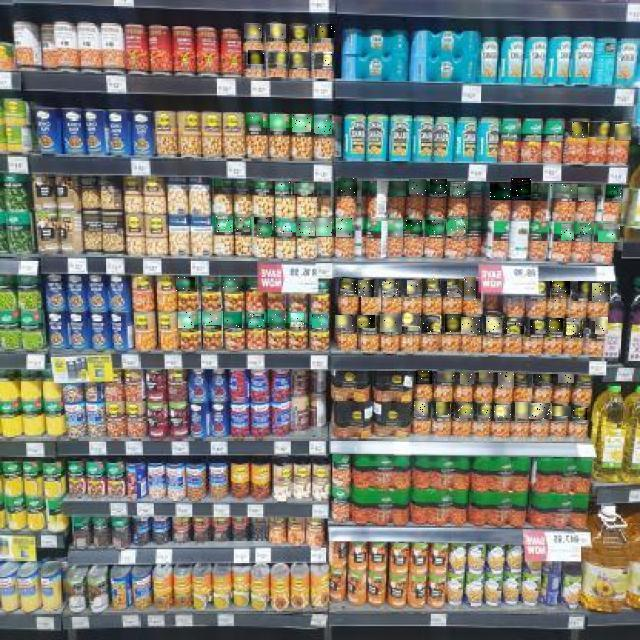Beans: (511, 178, 531, 200), (448, 216, 468, 236), (550, 282, 570, 302), (598, 224, 620, 242), (380, 314, 402, 332), (490, 182, 512, 200), (551, 185, 579, 199), (528, 403, 552, 419), (254, 217, 272, 237), (592, 283, 610, 302), (292, 114, 311, 132), (314, 115, 332, 134), (338, 178, 357, 196), (462, 317, 482, 334), (445, 314, 463, 332), (567, 319, 583, 339), (290, 52, 310, 68), (275, 222, 297, 236), (336, 218, 352, 237), (430, 179, 447, 196), (316, 218, 332, 236), (269, 310, 285, 328), (224, 312, 242, 328), (402, 314, 420, 330), (423, 316, 441, 332), (455, 402, 473, 418), (275, 178, 291, 196), (410, 180, 428, 196), (222, 279, 242, 293), (316, 25, 336, 39), (464, 277, 476, 300), (216, 216, 233, 232), (340, 278, 357, 294), (358, 280, 374, 297), (271, 114, 287, 131), (296, 222, 315, 236), (176, 277, 195, 291), (504, 321, 524, 334), (451, 220, 467, 236), (382, 281, 398, 297), (178, 312, 194, 328), (498, 372, 514, 388), (515, 402, 531, 418), (572, 122, 588, 138), (615, 125, 631, 141), (388, 220, 403, 237), (427, 220, 445, 234), (336, 316, 354, 330), (530, 320, 548, 334), (202, 312, 221, 325), (486, 317, 502, 332), (494, 406, 511, 420), (246, 116, 263, 130), (389, 182, 406, 196), (606, 185, 623, 199), (244, 25, 262, 38), (357, 315, 375, 328), (290, 26, 308, 39), (437, 369, 455, 382), (406, 220, 422, 234), (426, 279, 440, 295), (448, 280, 462, 296), (271, 24, 287, 38), (312, 314, 328, 328), (248, 314, 264, 328), (291, 314, 305, 330), (416, 370, 432, 384), (479, 403, 493, 419), (248, 51, 264, 65), (596, 123, 610, 139), (451, 182, 467, 196), (578, 187, 594, 201), (595, 317, 608, 334), (294, 183, 314, 194), (561, 225, 574, 241), (534, 374, 556, 383), (236, 219, 250, 233), (408, 280, 422, 294), (549, 319, 563, 333), (460, 370, 474, 384), (414, 402, 428, 416), (274, 51, 288, 65), (578, 281, 590, 297), (574, 408, 590, 420), (552, 406, 571, 416), (436, 402, 450, 415), (479, 370, 493, 382), (580, 223, 591, 237), (558, 374, 574, 383), (323, 52, 332, 66), (268, 311, 277, 317)
